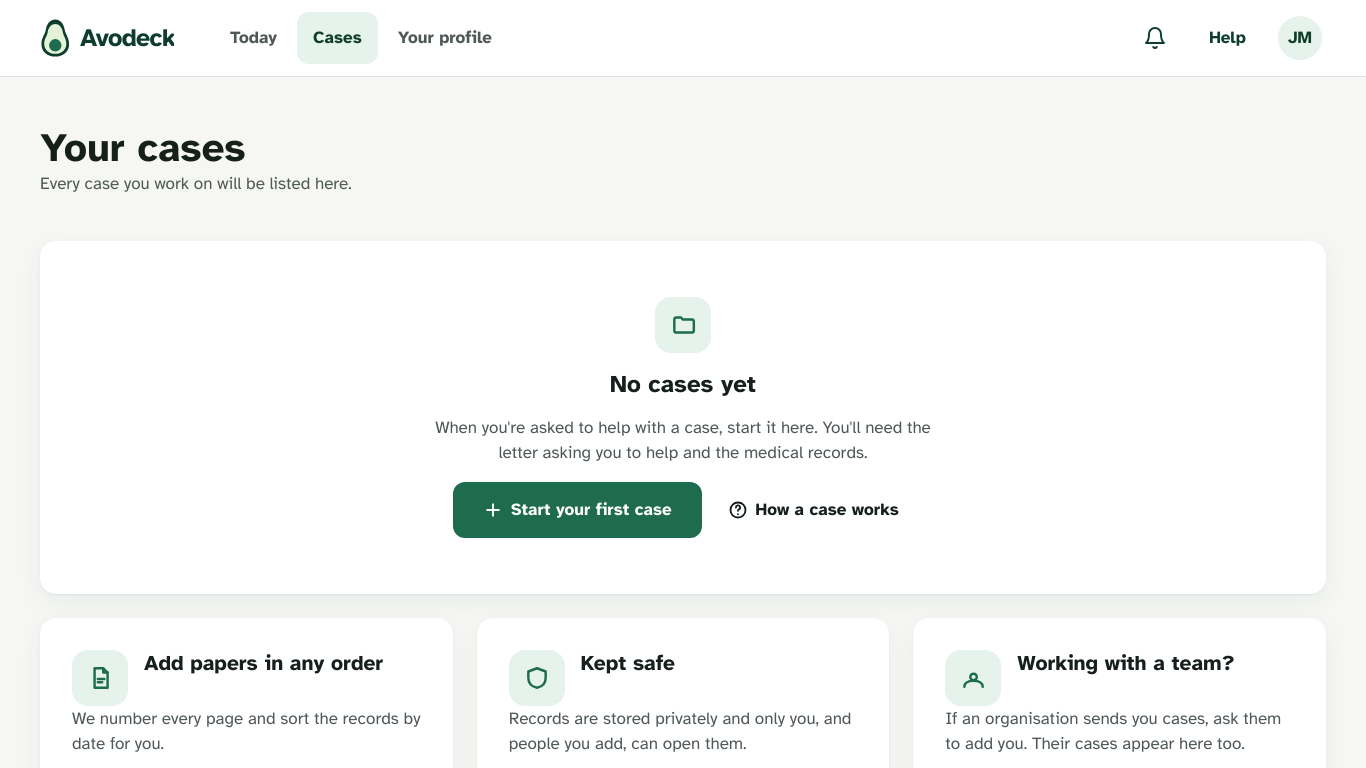
Scenario: the arrow keys step too
Click the button "How a case works": click(813, 510) 714,484 -> 913,536
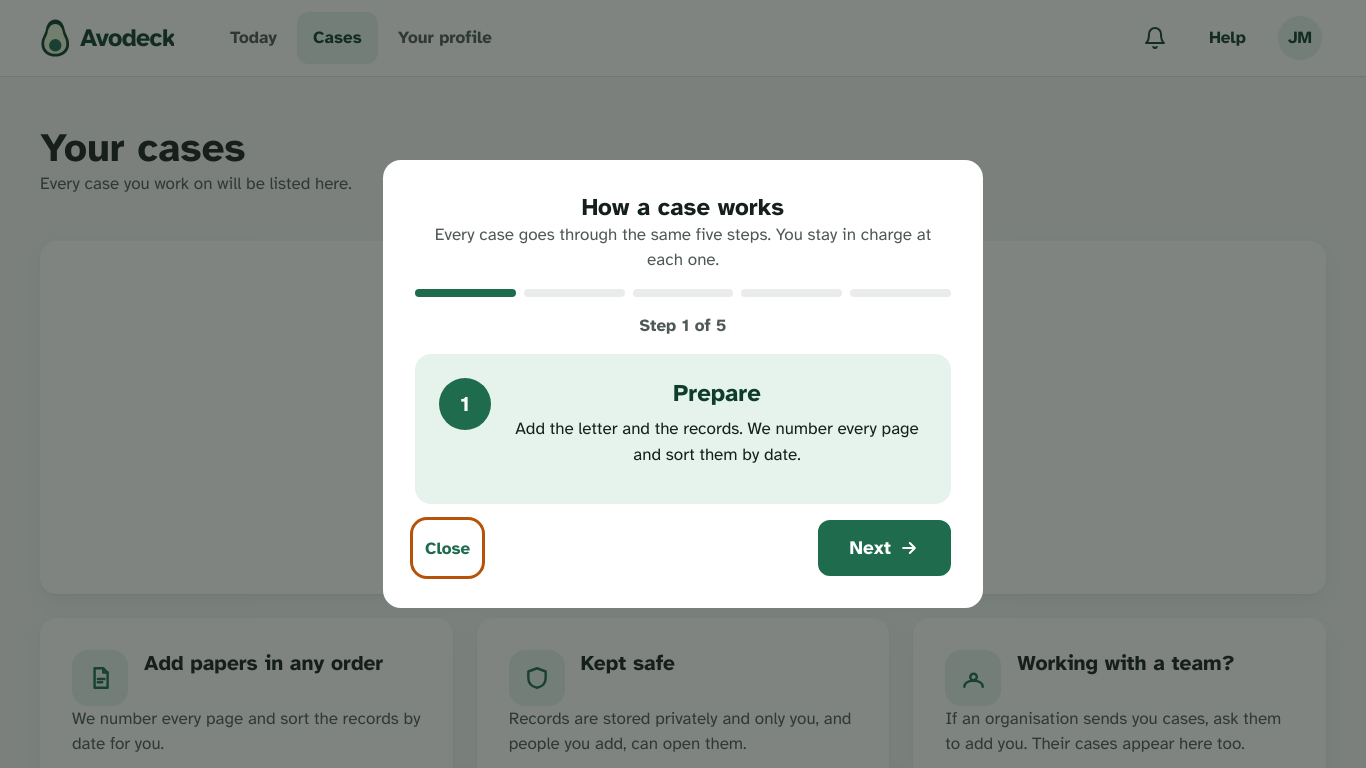
Press Arrowright
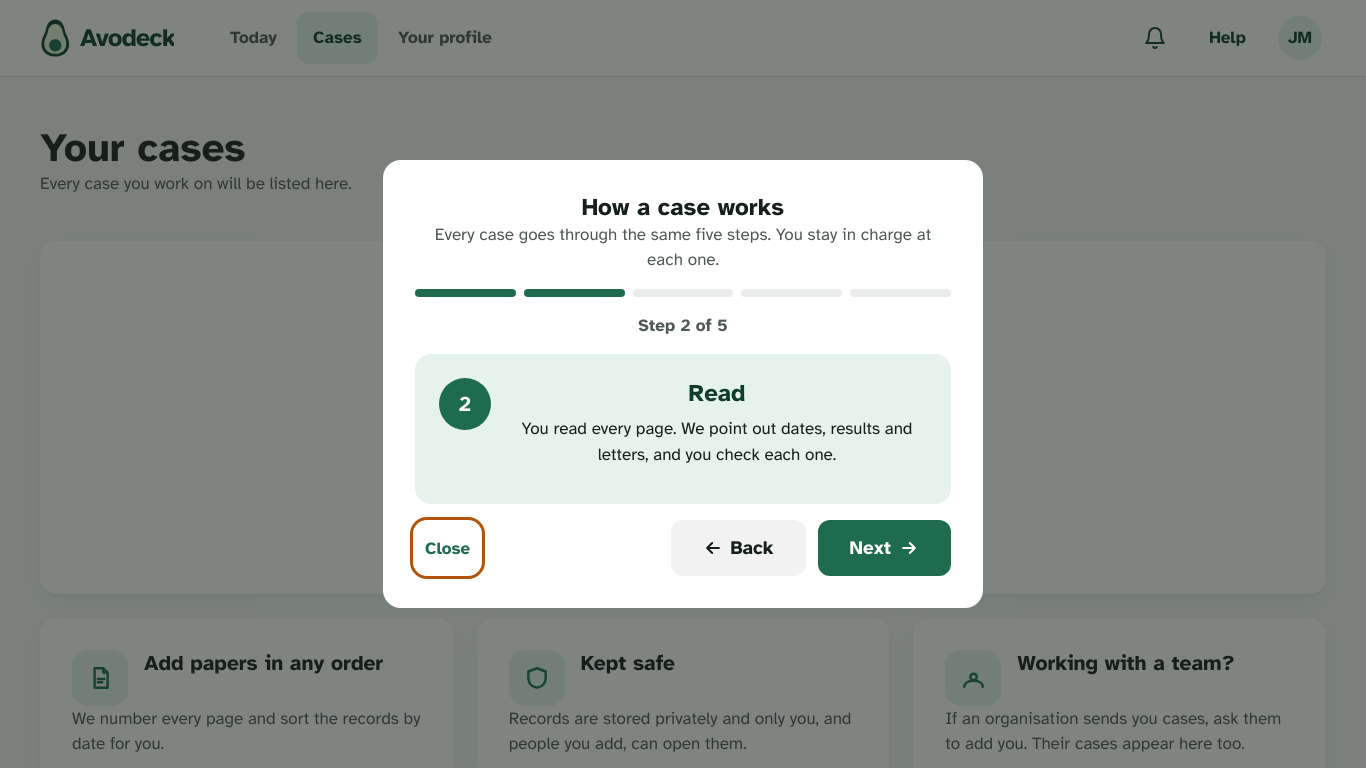
Now the heading "Read" is shown, box 689,378 -> 746,408
Press Arrowright
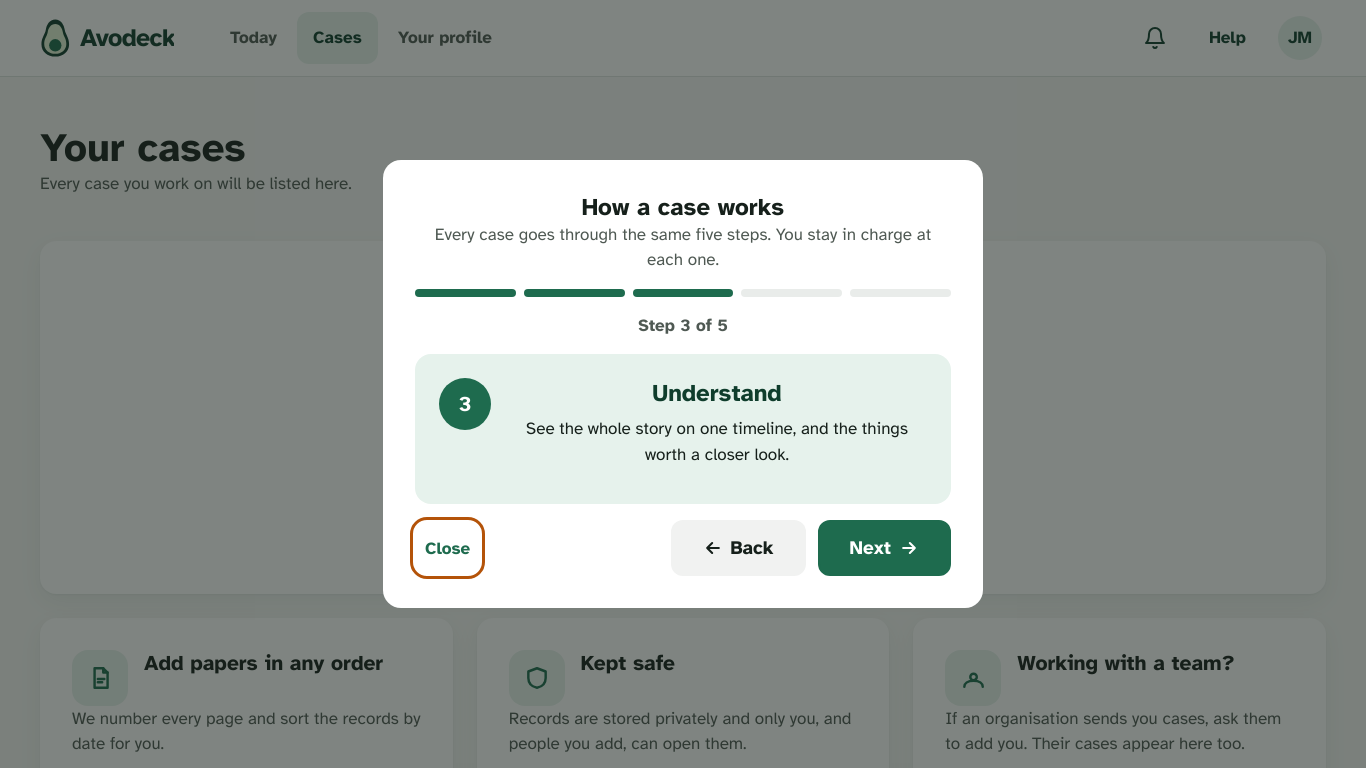
Now the heading "Understand" is shown, box 652,378 -> 782,408
Press Arrowleft
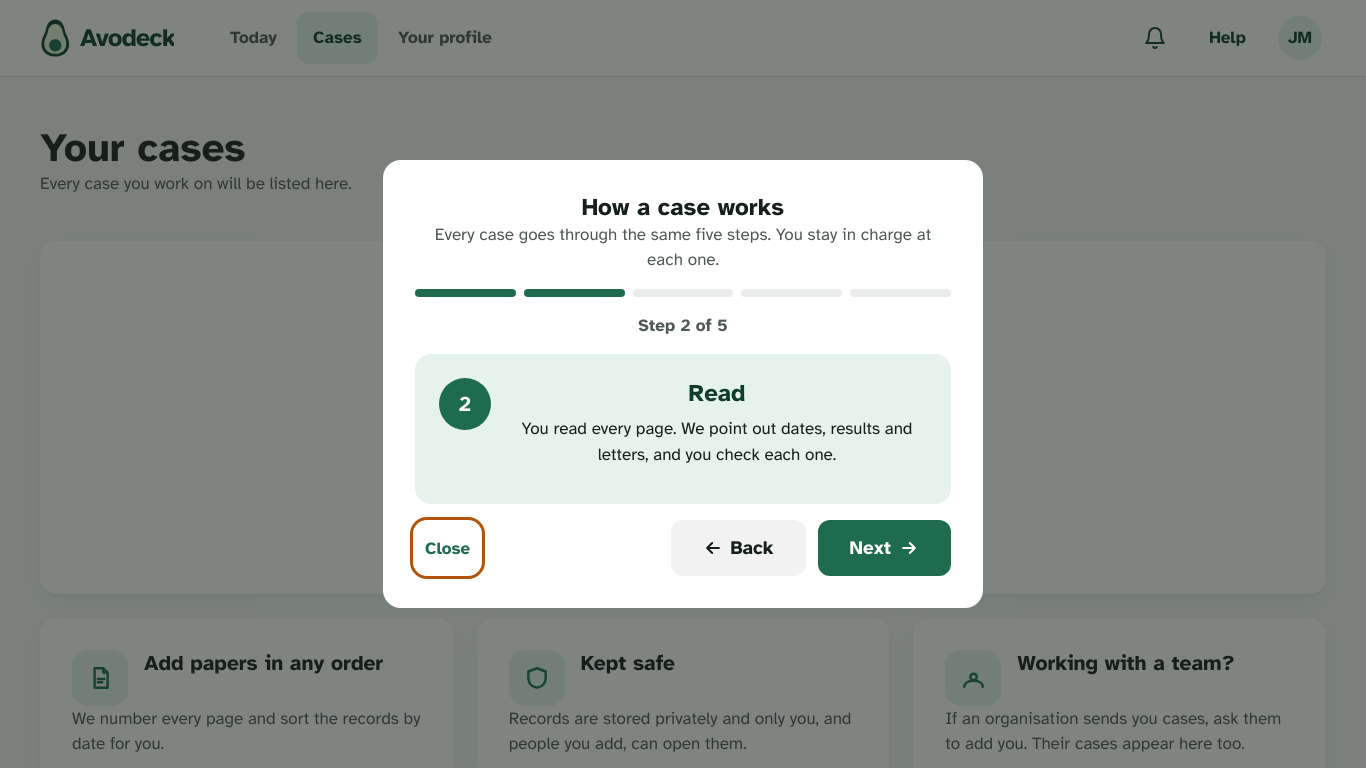
Now the heading "Read" is shown, box 689,378 -> 746,408
